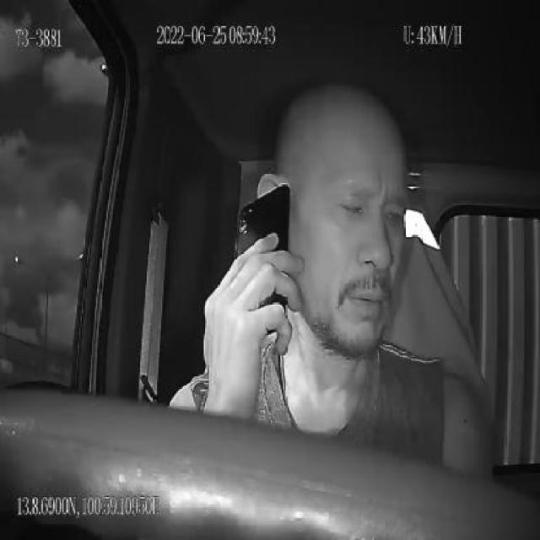phone: (233, 182, 288, 338)
